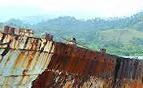rust: (49, 43, 113, 83), (19, 35, 41, 66), (30, 67, 56, 87), (124, 78, 142, 88)
